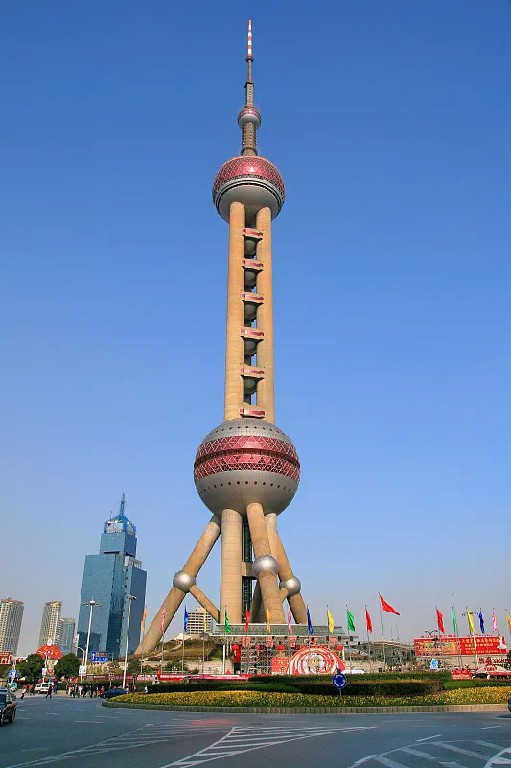Oriental: (131, 19, 314, 664)
